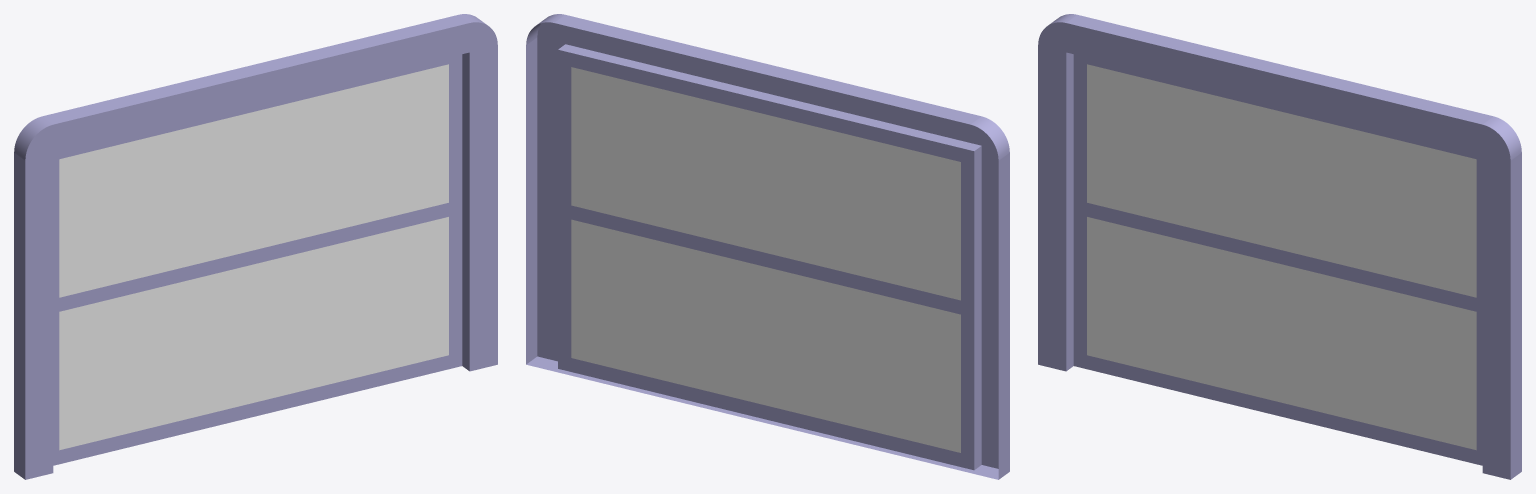
File: door7.obj
The picture shows the model from 3 angles, left to right: view 1: azimuth 30°, elevation 25°; view 2: azimuth 150°, elevation 25°; view 3: azimuth 330°, elevation 25°; orthographic projection.
Visible parts, largest first — view 1: mergedBlocks; view 2: mergedBlocks; view 3: mergedBlocks.
Part boxes in pixels (x1,y1,x2,y2): mergedBlocks: (14, 14, 497, 479); mergedBlocks: (526, 14, 1009, 479); mergedBlocks: (1038, 14, 1521, 479).
Bounding box in the file's own units: 0.726 × 0.5117 × 0.03.
